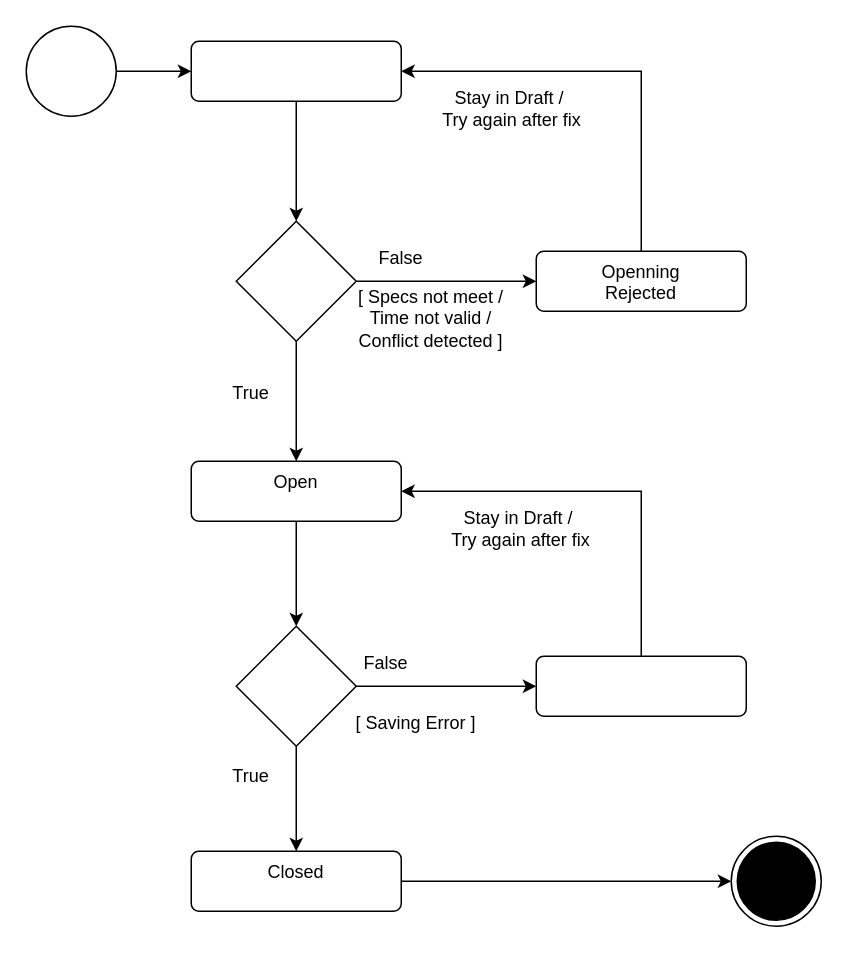
Some shapes in this 848 by 953 pixel diagram are drawn without their labels. The centre of each missing label's shape, as x and y in pixels:
"Closing Rejected" belongs at pixel 640 685.
"Draft" belongs at pixel 295 70.
